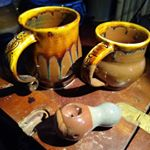cups: (2, 5, 84, 96), (81, 20, 150, 92)
